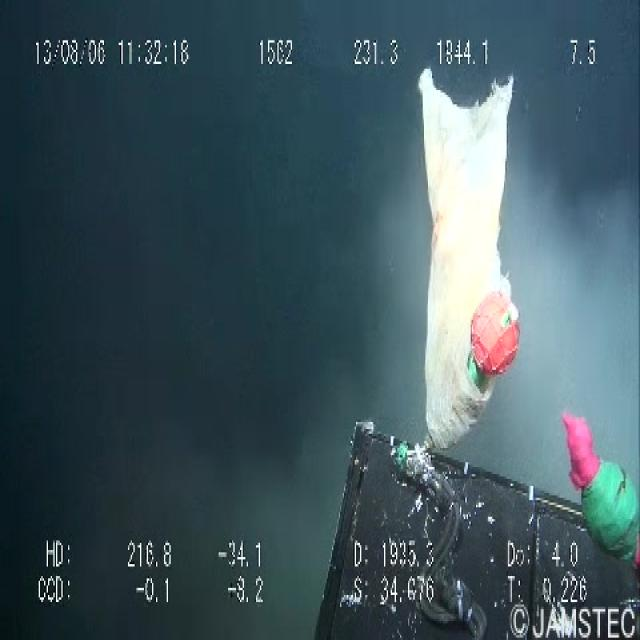plastic: (411, 69, 533, 452)
